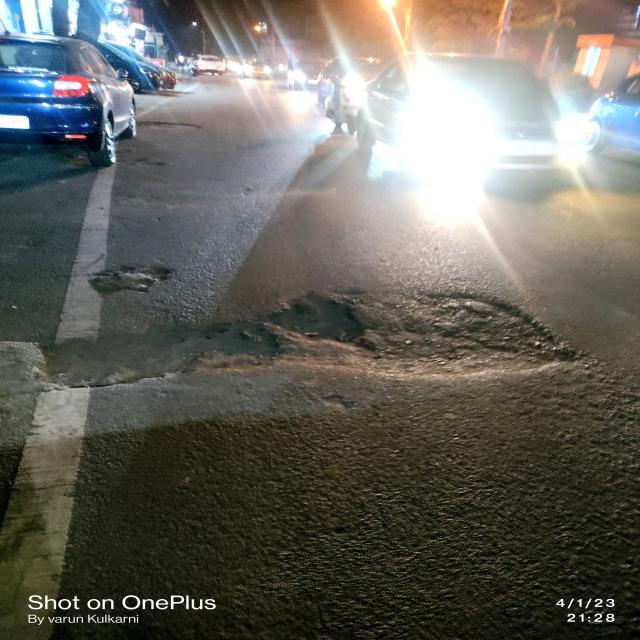potholes: (38, 258, 579, 391)
